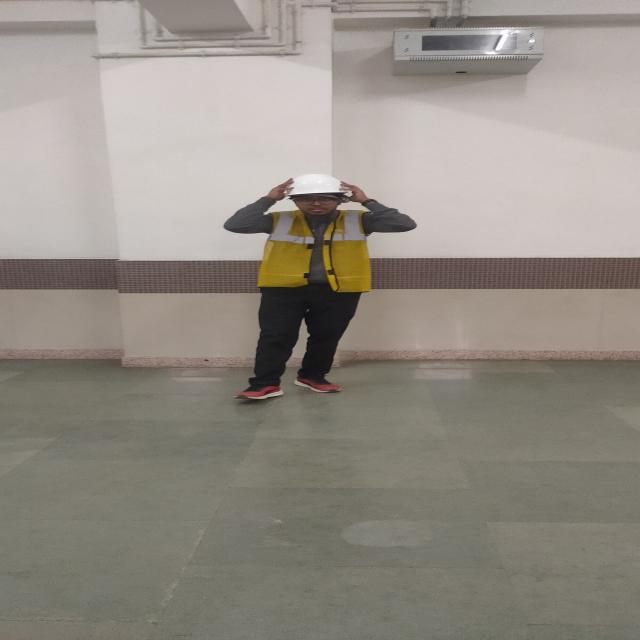safe: (224, 174, 416, 398)
